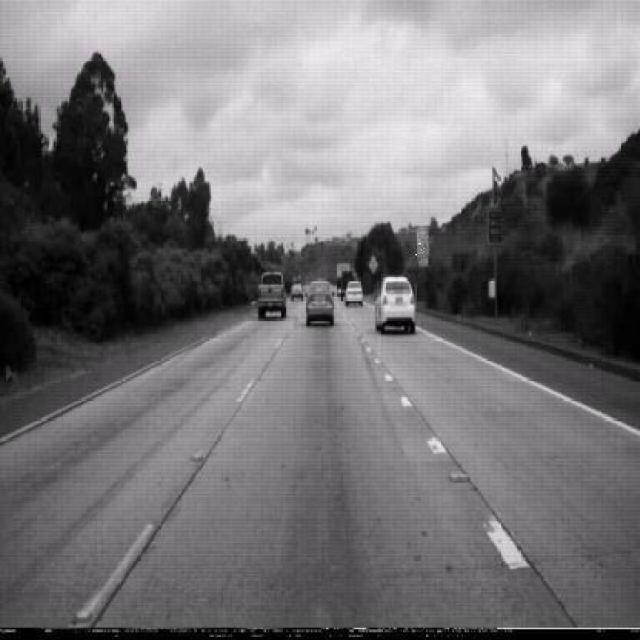truckSpeedLimit55: (416, 226, 430, 257)
